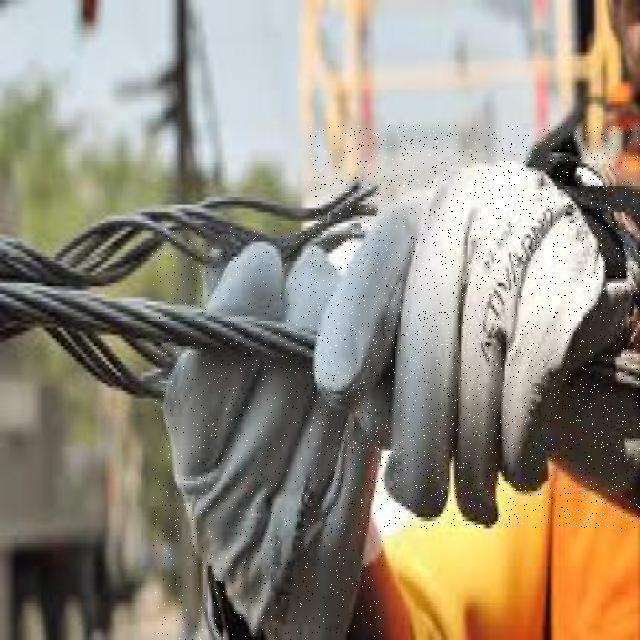gloves: (314, 147, 600, 529), (156, 242, 387, 640)
